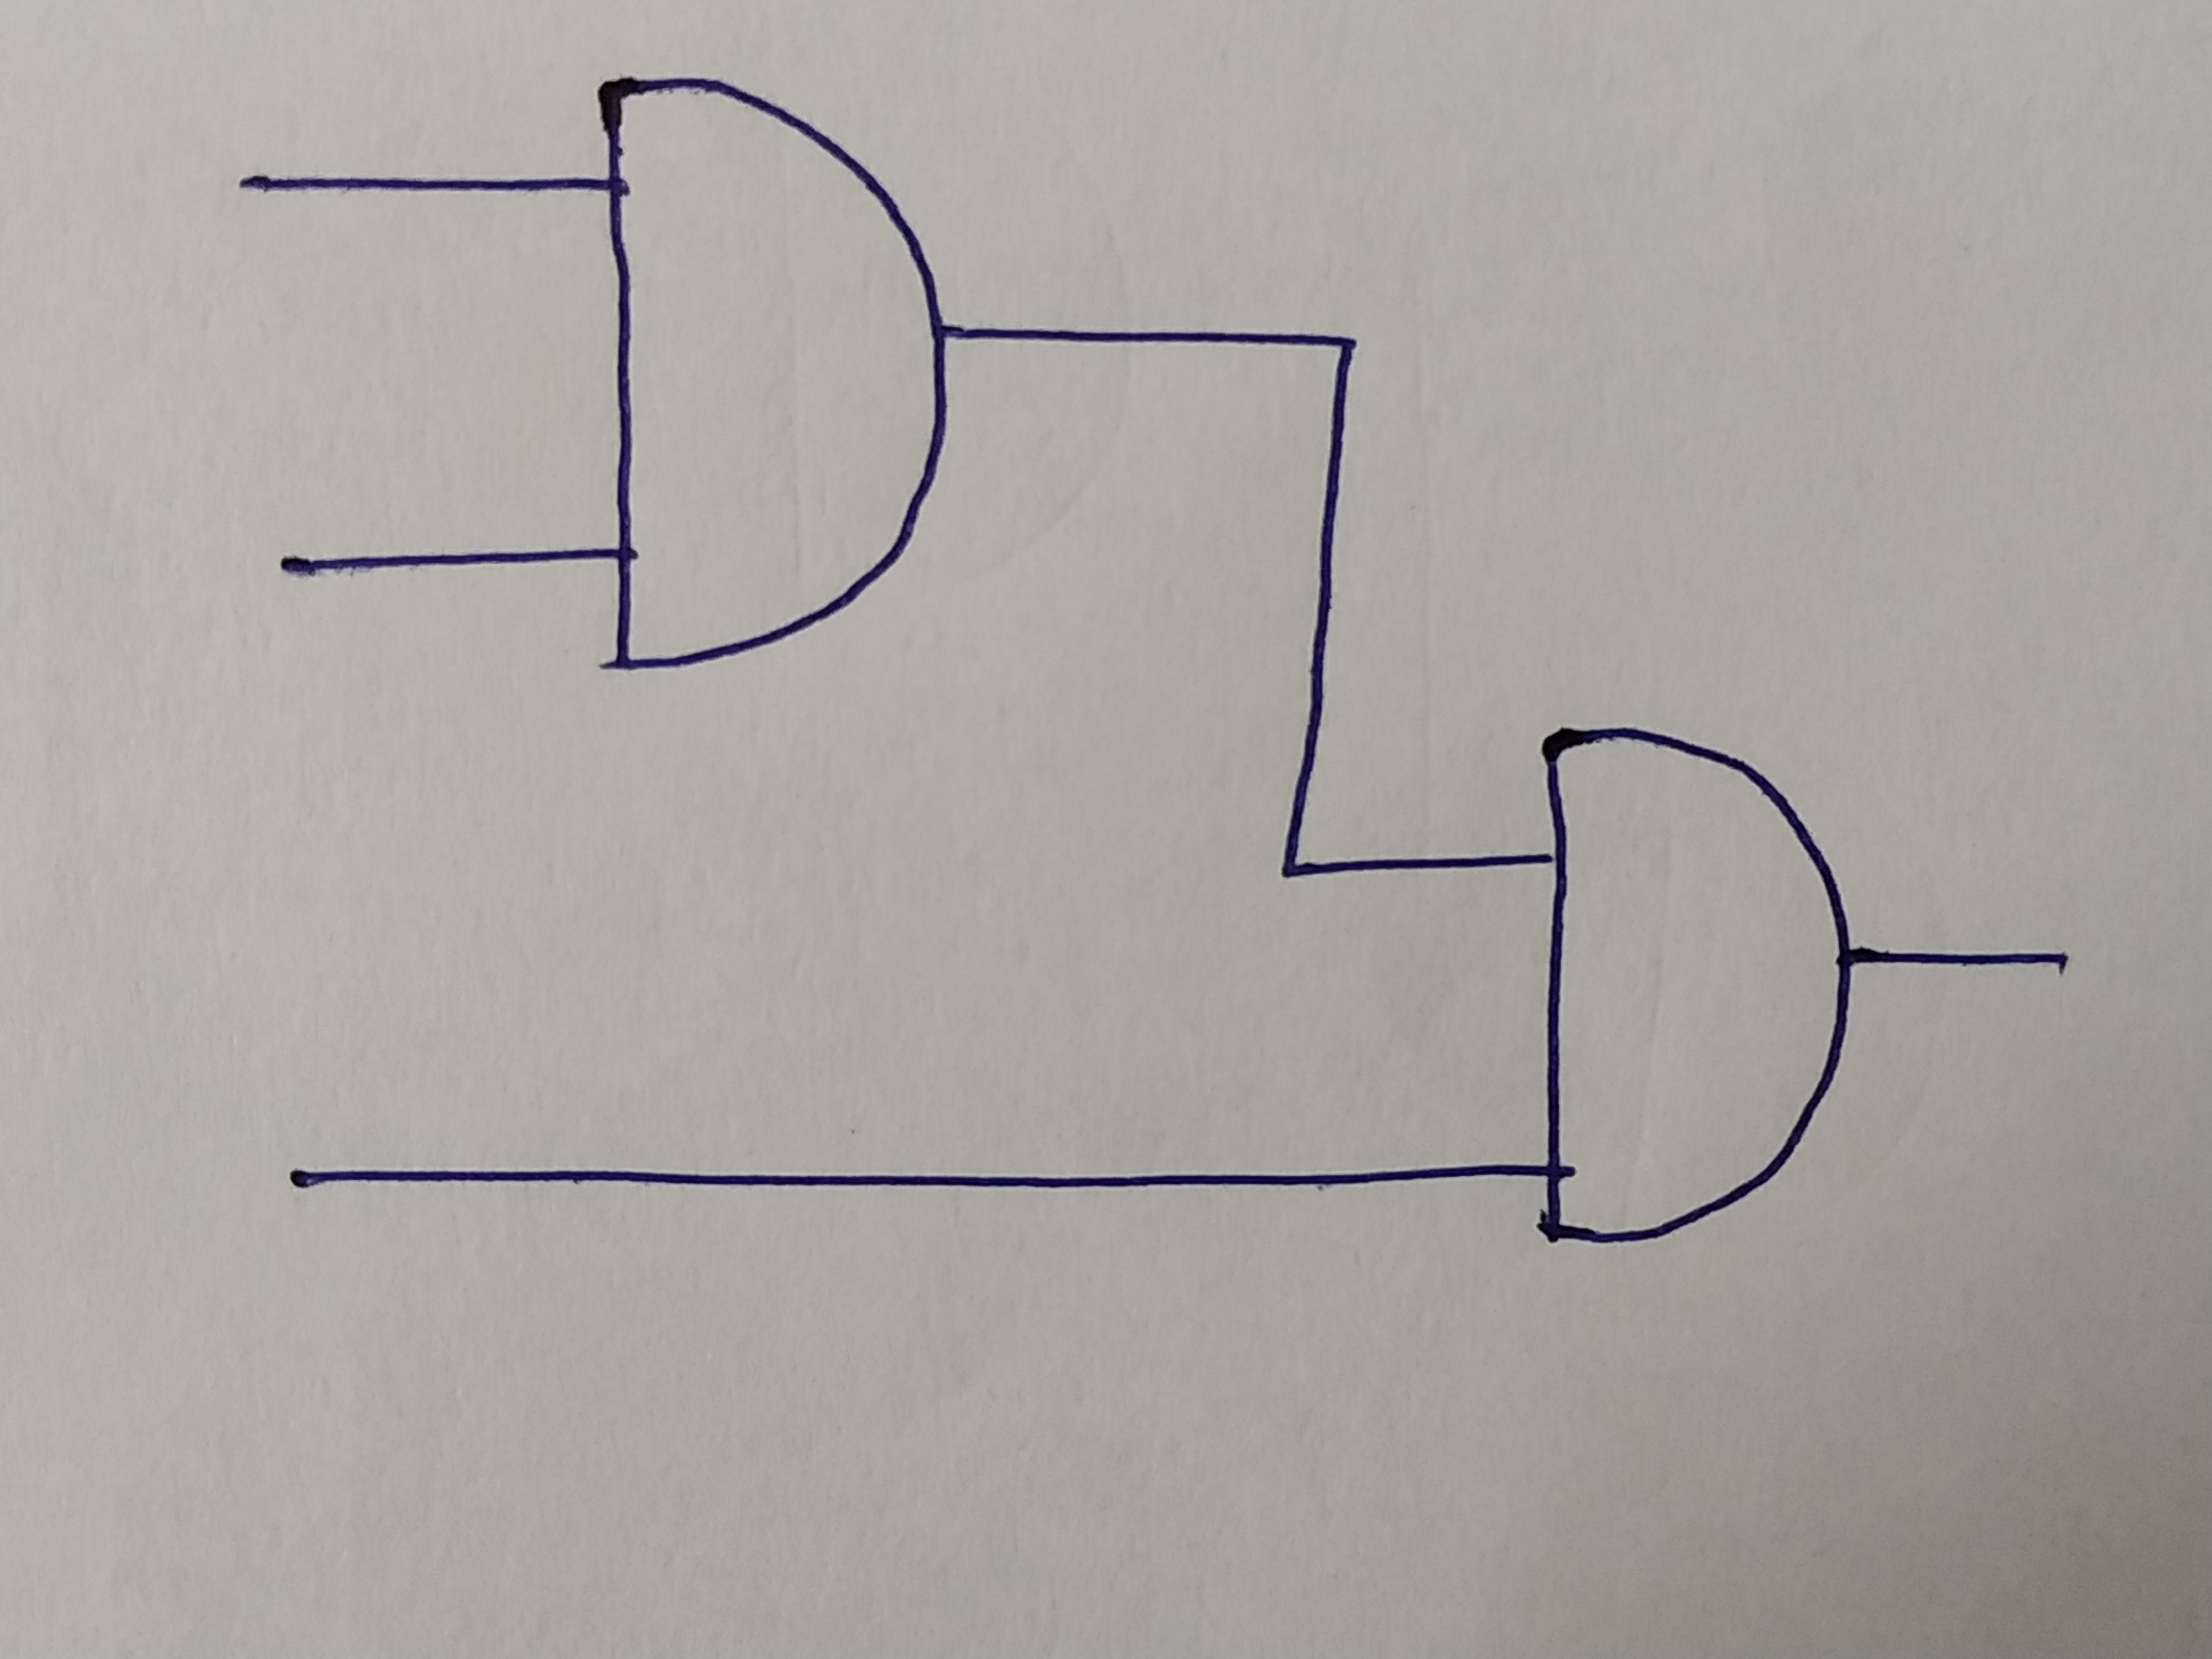and: (599, 73, 948, 671), (1533, 734, 1844, 1246)
